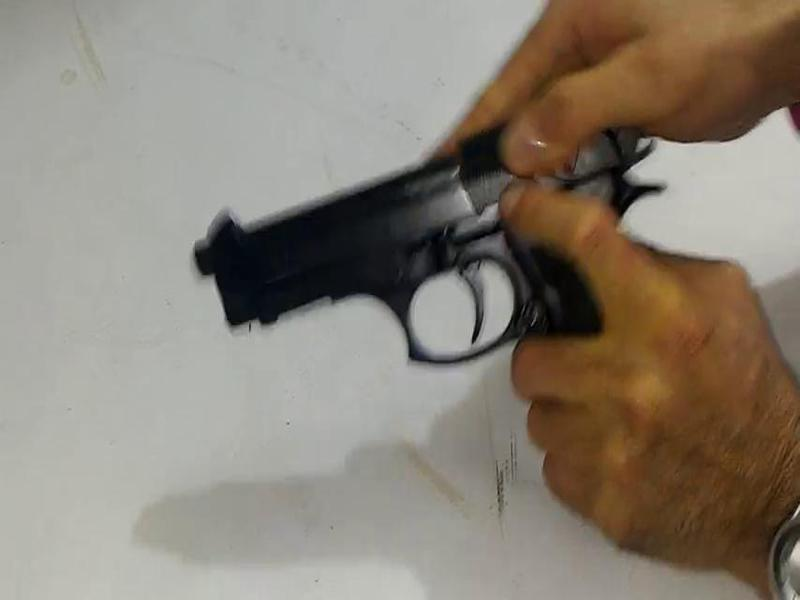Pistola: (170, 47, 696, 433)
